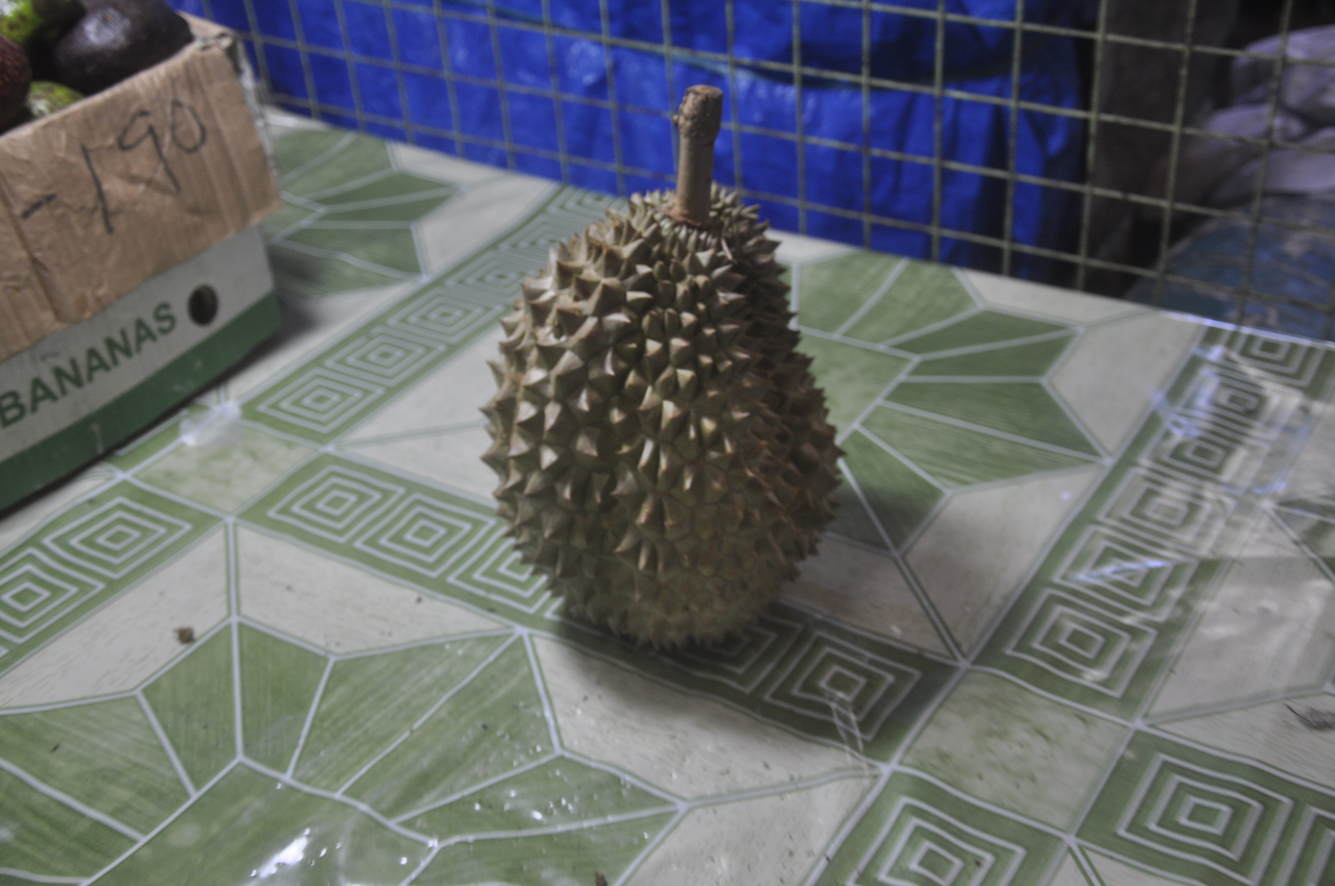mature: (482, 86, 842, 649)
